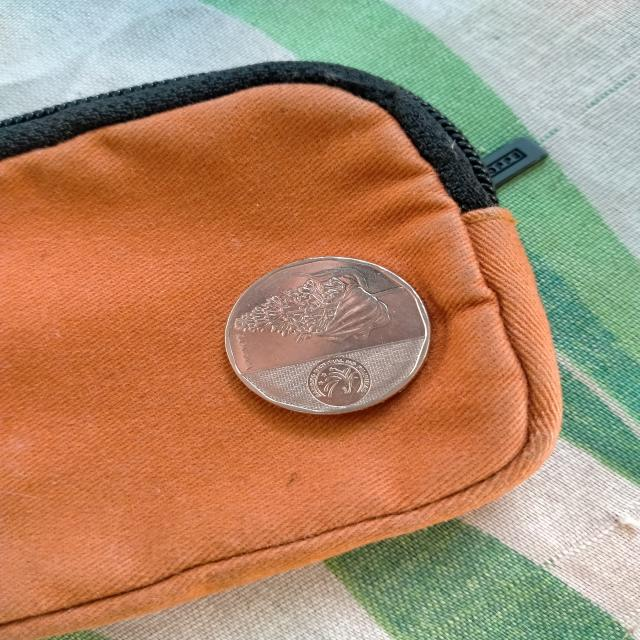10_New_Back: (224, 263, 410, 349)
